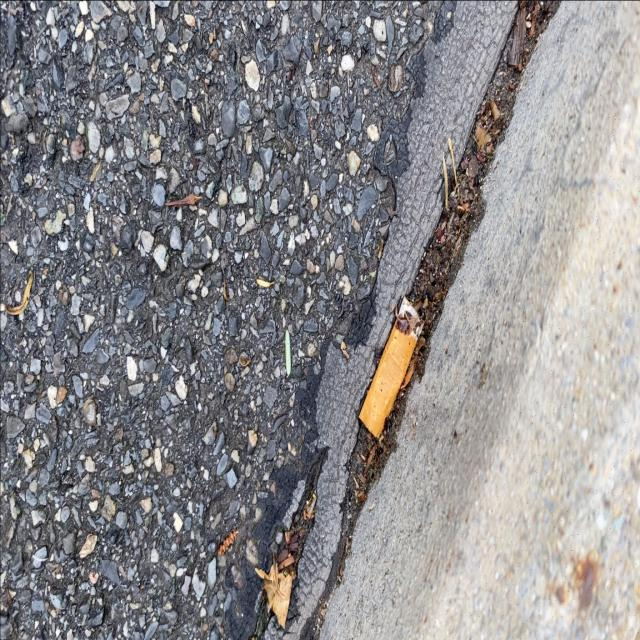other waste: (358, 295, 425, 439)
